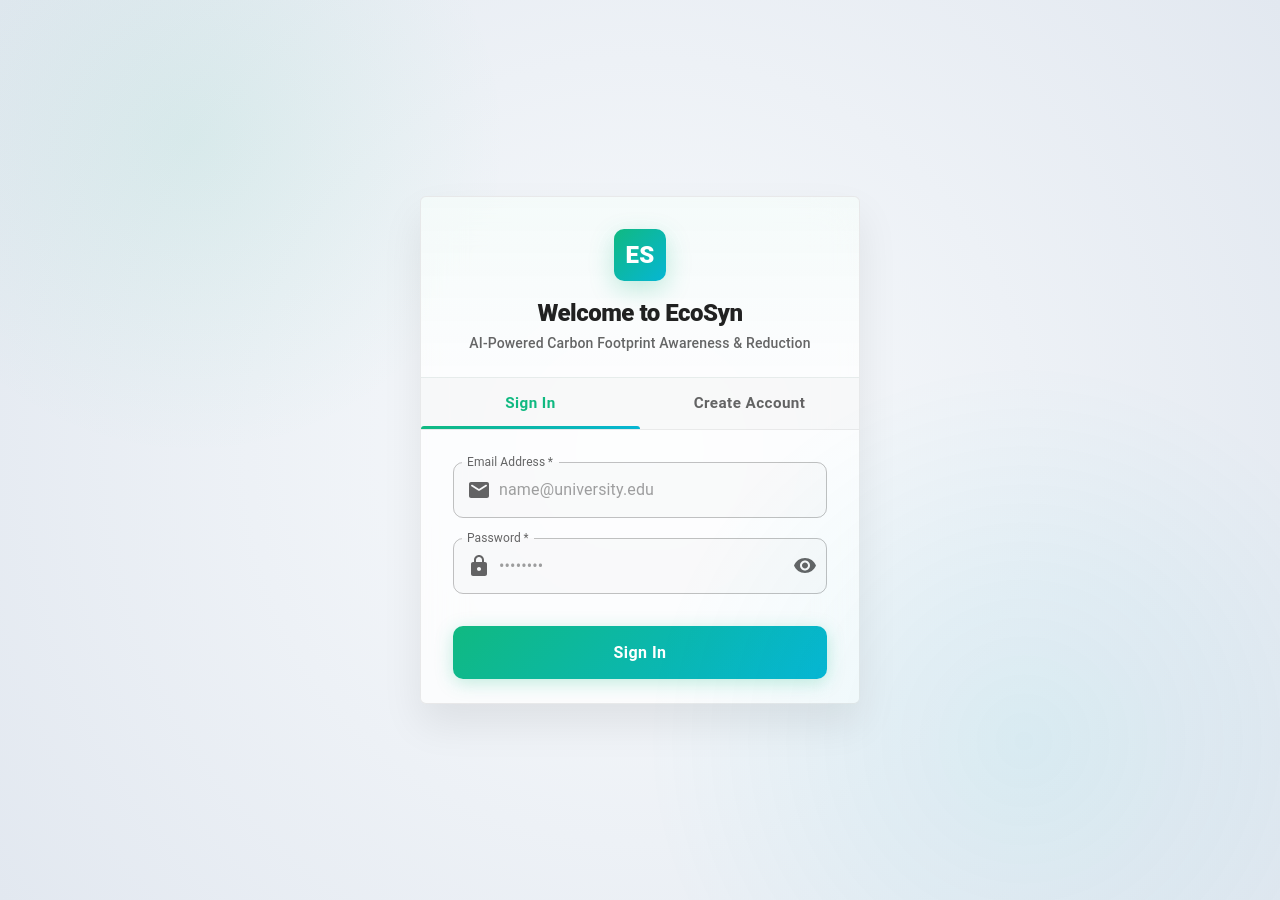
Test case: shows an API error after a failed login
The width and height of the screenshot is (1280, 900).
Type "student@example.com" into the field labelled "Email Address *" at coordinates (663, 490), box [499,462,827,518]
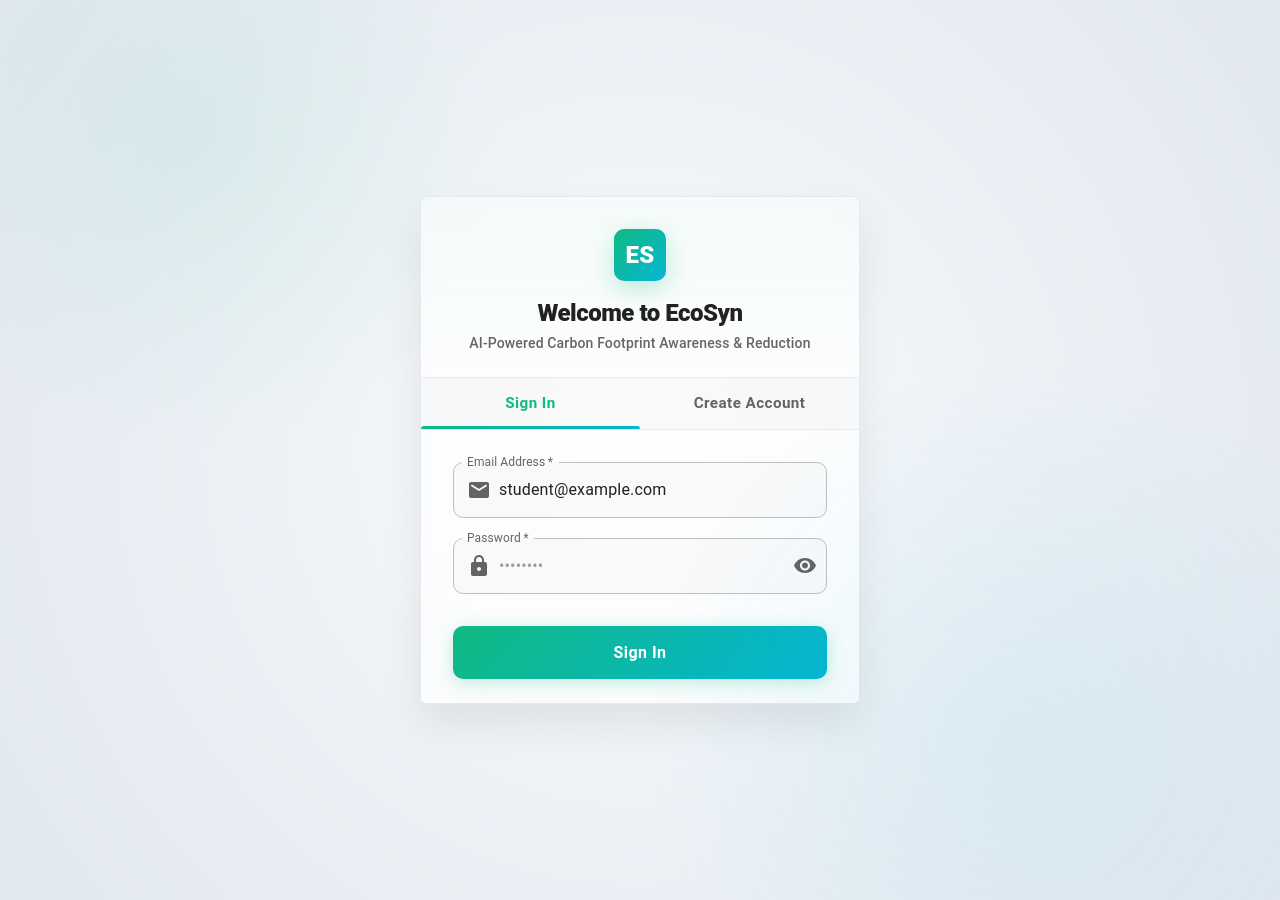
Type "wrong-password" into the password field labelled "Password *" at coordinates (638, 566), box [499,538,777,594]
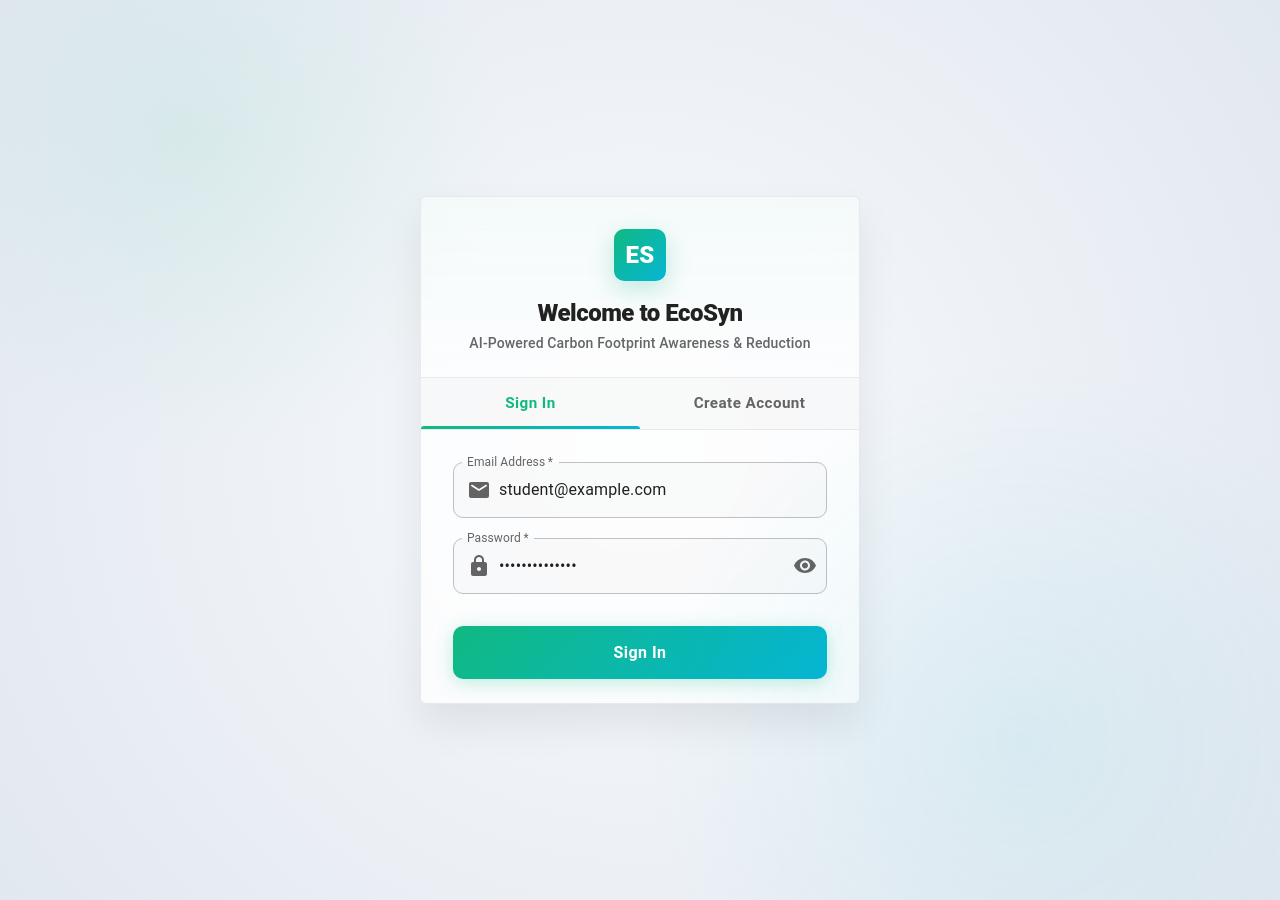
Submit the form, box [453,462,827,679]
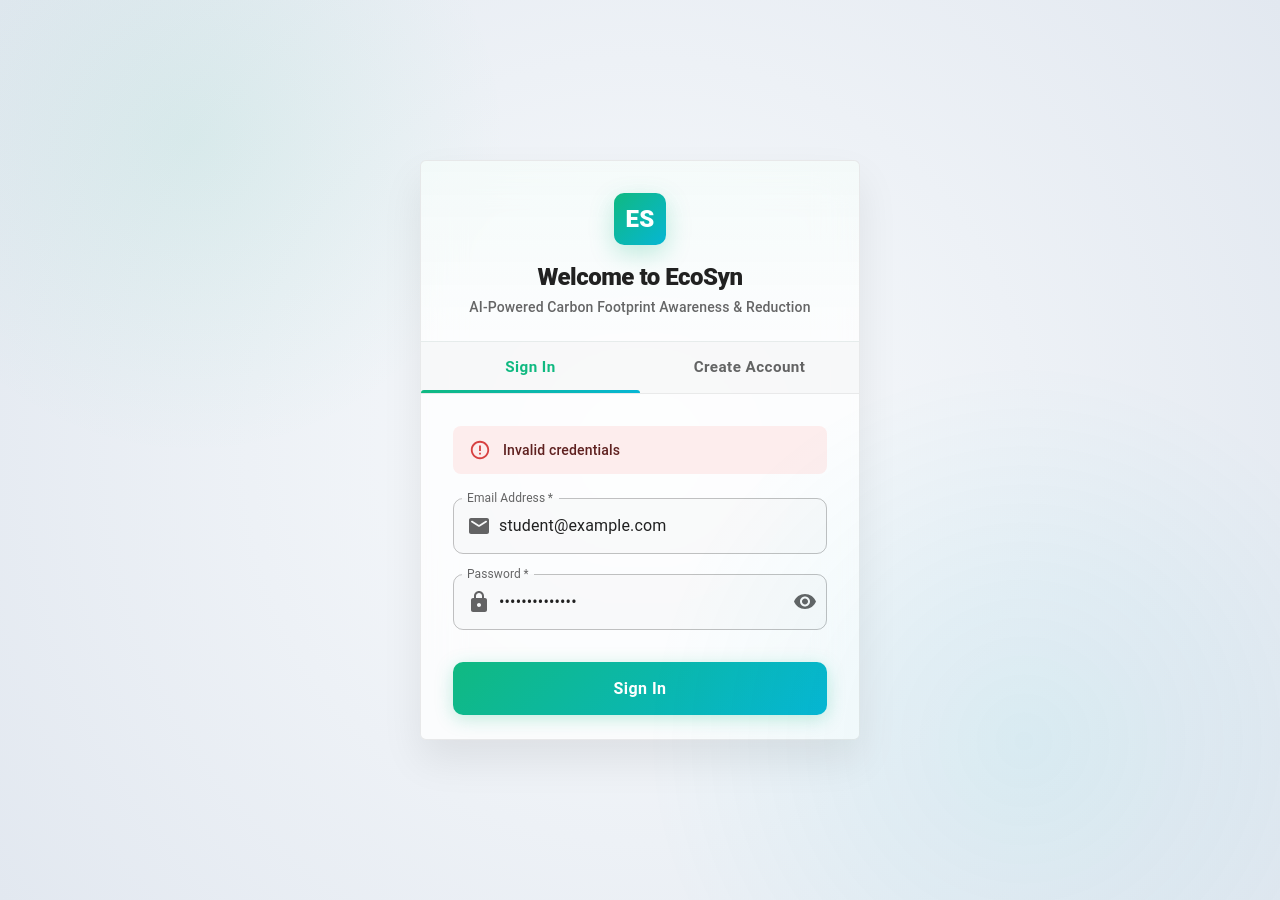
Now the text "Invalid credentials" is shown, box [503,442,620,458]
